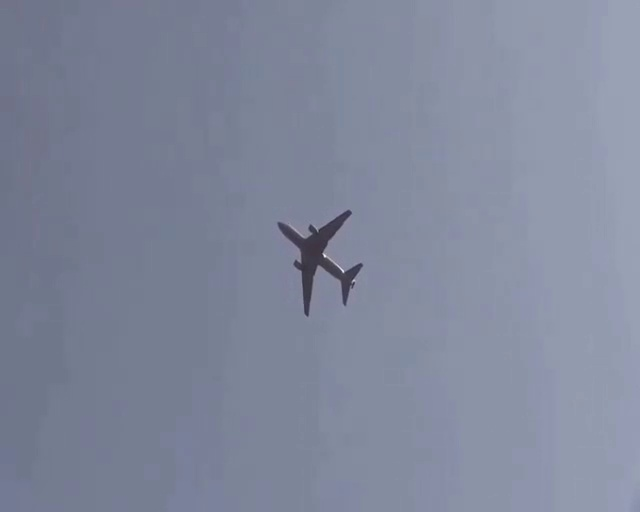AIRPLANE: (276, 207, 364, 316)
